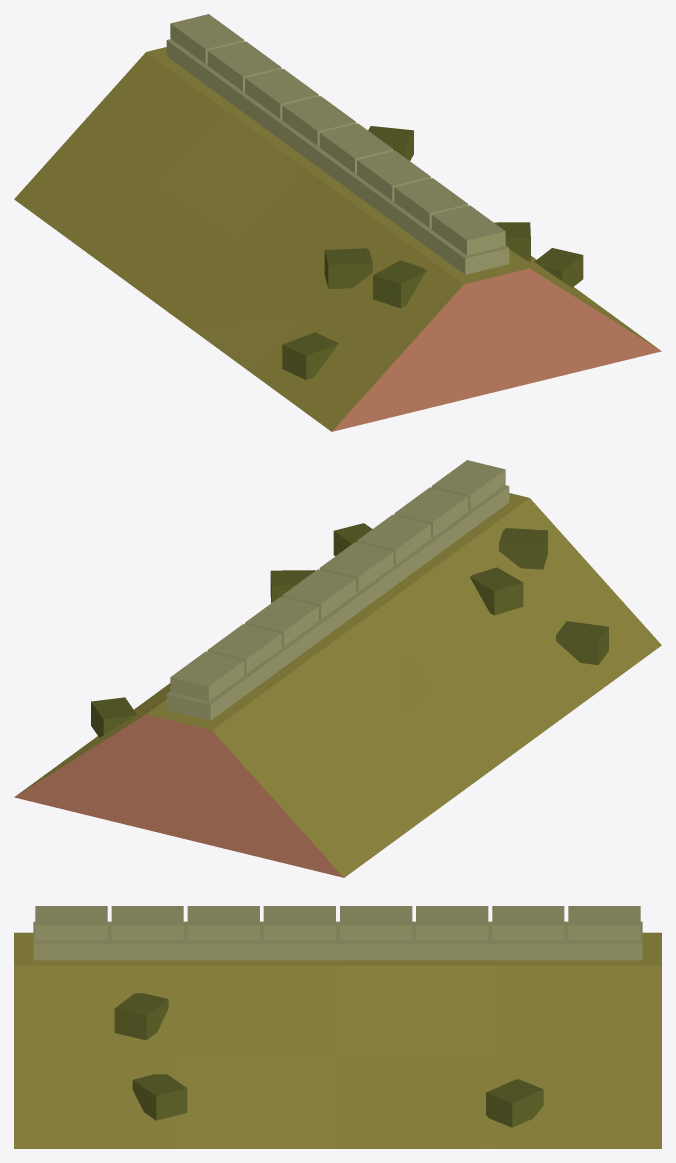
File: SM_TaludDeposito_v1_Sacos_LOD1.fbx
3 views of the same model, one above another, from view 1: azimuth 30°, elevation 25°; view 2: azimuth 150°, elevation 25°; view 3: azimuth 270°, elevation 25° (orthographic).
Visible parts, largest first — view 1: SM_bloques.talud_deposito_v1_LOD1; view 2: SM_bloques.talud_deposito_v1_LOD1; view 3: SM_bloques.talud_deposito_v1_LOD1.
Part boxes in pixels (box(x1,y1,x2,y2)): SM_bloques.talud_deposito_v1_LOD1: box(14, 14, 661, 431); SM_bloques.talud_deposito_v1_LOD1: box(14, 460, 661, 877); SM_bloques.talud_deposito_v1_LOD1: box(14, 906, 661, 1148).
Size of the model in its own units: 6 by 2.57 by 10.
